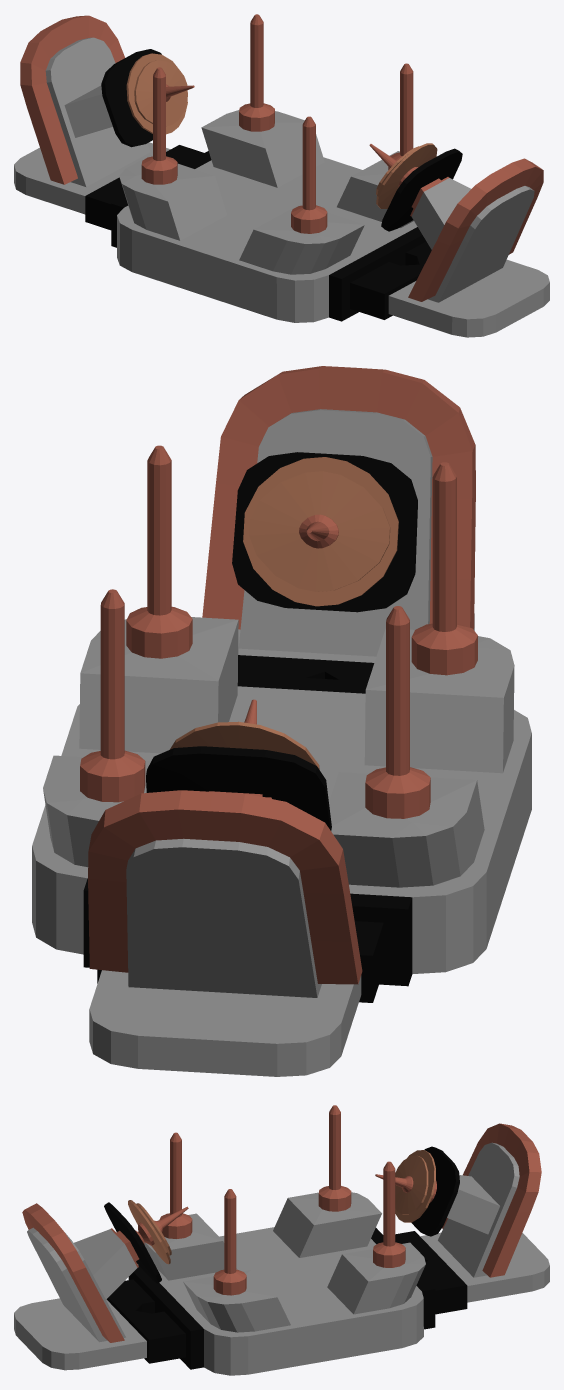
Rendered from engine_base.glb.
3 renders of one model, top to bottom at view 1: azimuth 30°, elevation 25°; view 2: azimuth 150°, elevation 25°; view 3: azimuth 270°, elevation 25°, orthographic. The views are drawn at different scales.
Parts seen in each view (by area): view 1: base; view 2: base; view 3: base.
Boxes of the visible parts, x1,y1,x2,y2 form: base: [14, 14, 549, 337]; base: [32, 366, 531, 1076]; base: [14, 1105, 549, 1375].
Size of the model in its own units: 0.2343 by 0.1426 by 0.4096.
